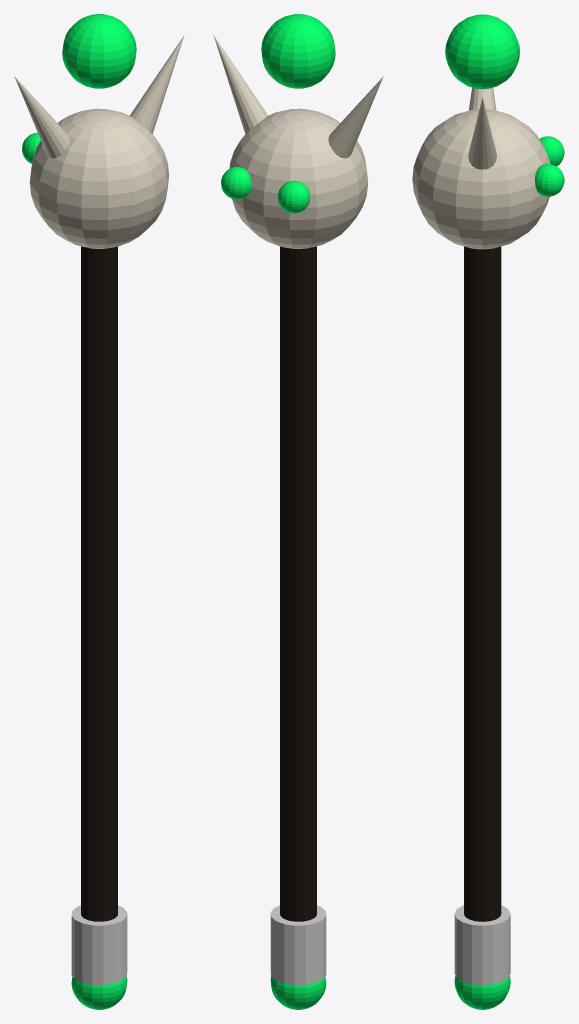
File: necro_staff.obj
The picture shows the model from 3 angles, left to right: view 1: azimuth 30°, elevation 25°; view 2: azimuth 150°, elevation 25°; view 3: azimuth 270°, elevation 25°; orthographic projection.
Visible parts, largest first — view 1: Staff_Shaft, Staff_Skull, Floating_Soul_Core, Staff_Pommel, Staff_Horn_R, Staff_Horn_L, Staff_Pommel_Orb; view 2: Staff_Shaft, Staff_Skull, Floating_Soul_Core, Staff_Pommel, Staff_Horn_R, Staff_Horn_L, Staff_Pommel_Orb, Staff_Eye_L, Staff_Eye_R; view 3: Staff_Shaft, Staff_Skull, Floating_Soul_Core, Staff_Pommel, Staff_Horn_R, Staff_Pommel_Orb, Staff_Eye_R, Staff_Horn_L, Staff_Eye_L.
Part boxes in pixels (bbox=[...]): Staff_Shaft: bbox=[81, 246, 117, 921]; Staff_Skull: bbox=[29, 108, 169, 248]; Floating_Soul_Core: bbox=[62, 14, 136, 88]; Staff_Pommel: bbox=[71, 905, 127, 985]; Staff_Horn_R: bbox=[129, 35, 184, 133]; Staff_Horn_L: bbox=[14, 76, 69, 158]; Staff_Pommel_Orb: bbox=[71, 975, 127, 1009]; Staff_Shaft: bbox=[280, 246, 316, 921]; Staff_Skull: bbox=[229, 108, 368, 248]; Floating_Soul_Core: bbox=[261, 14, 335, 88]; Staff_Pommel: bbox=[270, 905, 326, 985]; Staff_Horn_R: bbox=[213, 35, 268, 133]; Staff_Horn_L: bbox=[328, 76, 383, 158]; Staff_Pommel_Orb: bbox=[270, 975, 326, 1009]; Staff_Eye_L: bbox=[278, 180, 310, 213]; Staff_Eye_R: bbox=[221, 167, 251, 199]; Staff_Shaft: bbox=[464, 246, 501, 921]; Staff_Skull: bbox=[412, 109, 550, 249]; Floating_Soul_Core: bbox=[445, 14, 519, 89]; Staff_Pommel: bbox=[454, 905, 510, 985]; Staff_Horn_R: bbox=[468, 98, 496, 169]; Staff_Pommel_Orb: bbox=[454, 976, 510, 1009]; Staff_Eye_R: bbox=[535, 164, 564, 196]; Staff_Horn_L: bbox=[469, 87, 496, 110]; Staff_Eye_L: bbox=[539, 136, 564, 166].
Bounding box in the file's own units: 0.42 × 2.33 × 0.325.
